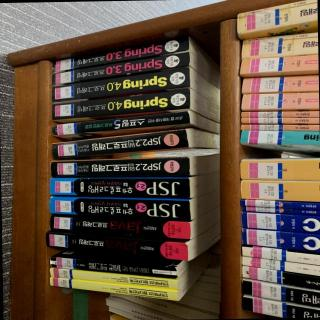book-spine: (49, 36, 190, 73), (49, 67, 190, 102), (50, 52, 190, 85), (51, 89, 190, 120), (44, 232, 188, 260), (51, 129, 189, 158), (50, 111, 189, 136), (49, 197, 191, 221), (49, 215, 190, 239), (48, 277, 178, 301), (50, 157, 189, 178), (50, 177, 189, 198), (49, 257, 178, 279), (48, 268, 179, 289)
